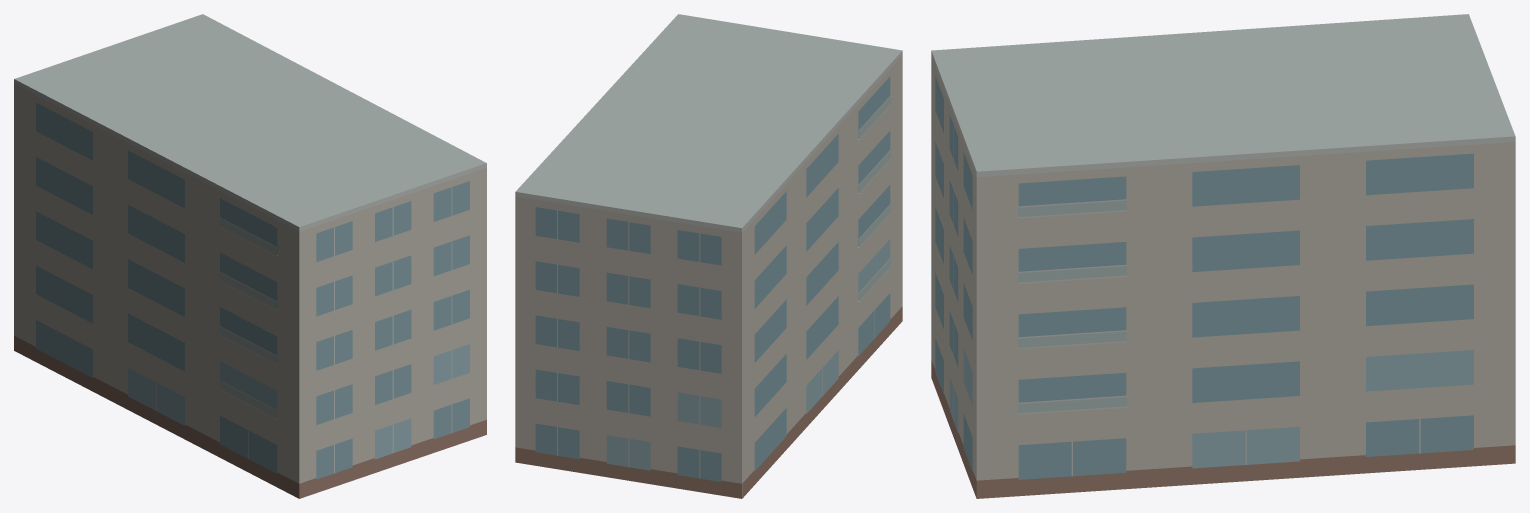
File: survey-upis-32706755.glb
The picture shows the model from 3 angles, left to right: view 1: azimuth 30°, elevation 25°; view 2: azimuth 150°, elevation 25°; view 3: azimuth 270°, elevation 25°; orthographic projection. The views are drawn at different scales.
Parts seen in each view (by area): view 1: survey-upis-32706755.tmp; view 2: survey-upis-32706755.tmp; view 3: survey-upis-32706755.tmp.
Part boxes in pixels (x1,y1,x2,y2): survey-upis-32706755.tmp: (14,14,486,498); survey-upis-32706755.tmp: (515,14,902,498); survey-upis-32706755.tmp: (931,14,1515,498).
Size of the model in its own units: 14.89 by 14.4 by 23.31.
